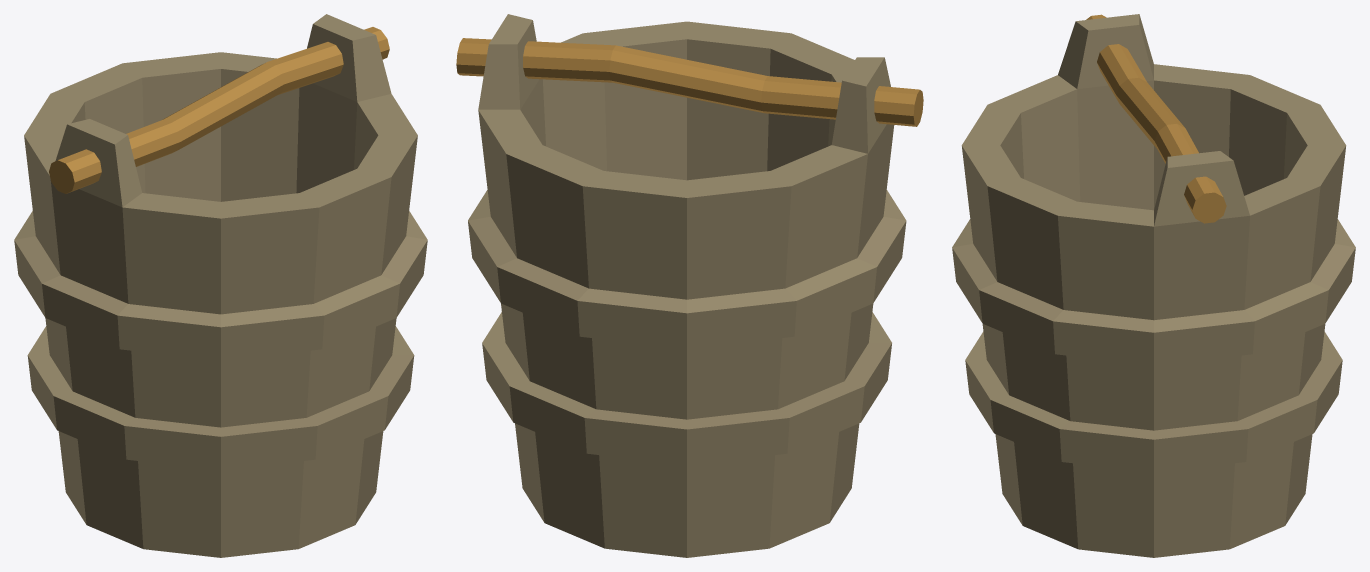
The model's file is Bucket.fbx.
3 views of the same model, side by side, from view 1: azimuth 30°, elevation 25°; view 2: azimuth 150°, elevation 25°; view 3: azimuth 270°, elevation 25° (orthographic). The views are drawn at different scales.
Visible parts, largest first — view 1: Bucket; view 2: Bucket; view 3: Bucket.
Boxes of the visible parts, x1=… form: Bucket: x1=14, y1=14, x2=427, y2=557; Bucket: x1=456, y1=14, x2=923, y2=557; Bucket: x1=952, y1=14, x2=1355, y2=557.
Bounding box in the file's own units: 224 × 231 × 210.
